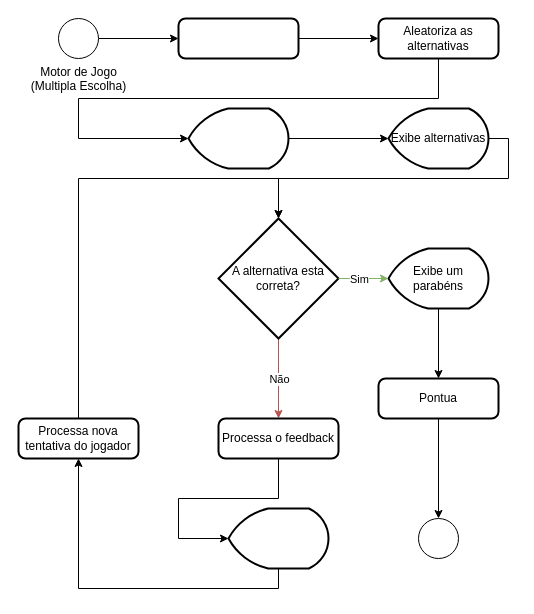
The diagram is 534 pixels wide and 614 high, and some of its shapes have lost their labels. Each missing label, with the centre of its shape:
"Busca pergunta" goes at point 238,38.
"Exibe perguntas" goes at point 238,138.
"Exibe uma dica" goes at point 278,538.
"Somatória de Pontos" goes at point 438,538.
